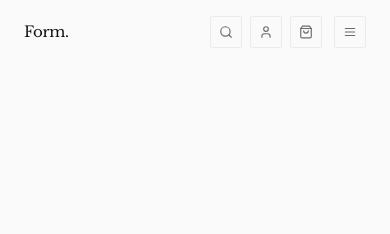
Navbar › mobile menu › mobile menu opens when toggle is clicked
Step 1. Click the button with test id "navbar-mobile-toggle" → {"x": 350, "y": 32}, box [334,16,366,48]
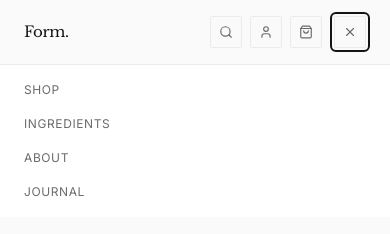
expect the navigation bar with test id "navbar-mobile-menu" is shown: met
